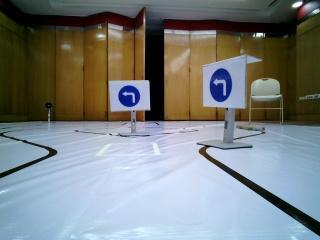left: (203, 64, 245, 108), (109, 79, 152, 107)
